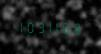eight: (71, 20, 79, 34)
one: (44, 19, 52, 34), (17, 19, 25, 33), (53, 20, 61, 34)
six: (62, 20, 70, 34)
three: (35, 19, 43, 33)
zero: (26, 19, 34, 33)
